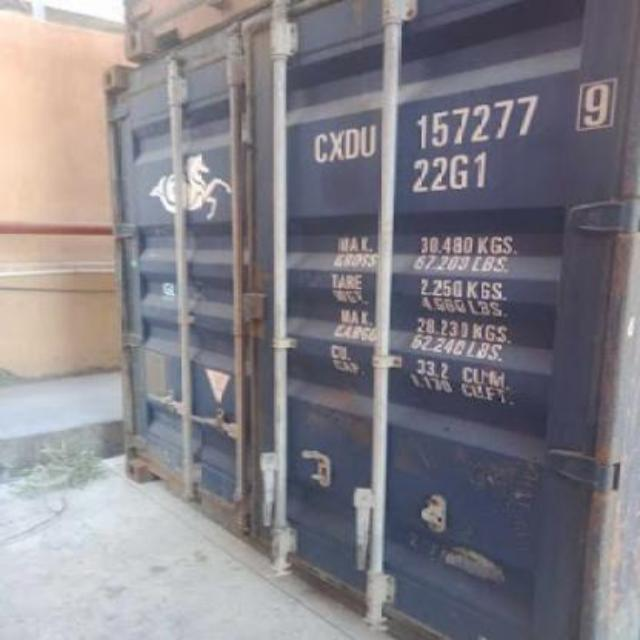1: (410, 108, 428, 150)
2: (468, 100, 492, 144)
5: (426, 106, 448, 150)
7: (512, 90, 540, 142), (488, 97, 512, 147), (446, 105, 472, 148)
9: (572, 73, 616, 133)
C: (310, 127, 328, 167)
D: (340, 122, 358, 164)
U: (358, 120, 376, 164)
X: (328, 127, 342, 163)
